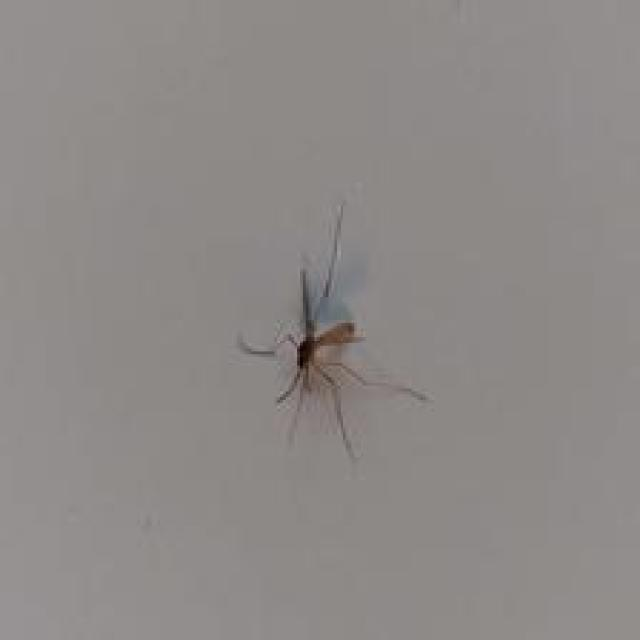Culex: (234, 200, 429, 460)
